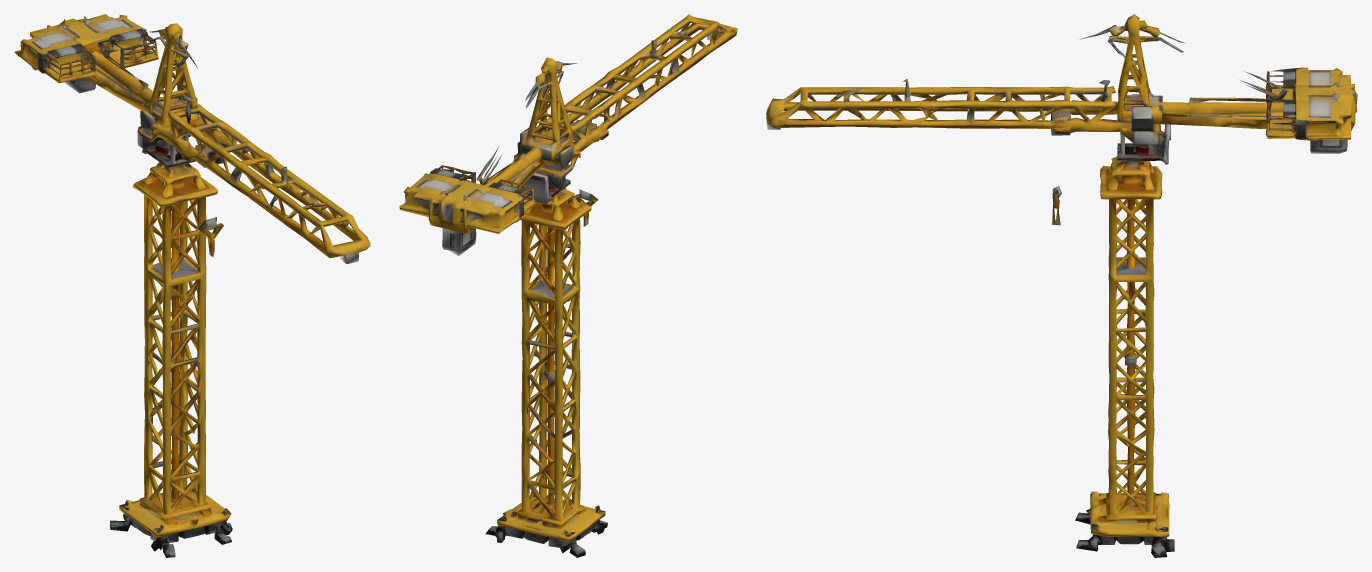
Rendered from crane.glb.
3 views of the same model, side by side, from view 1: azimuth 30°, elevation 25°; view 2: azimuth 150°, elevation 25°; view 3: azimuth 270°, elevation 25° (orthographic). The views are drawn at different scales.
Visible parts, largest first — view 1: crane-0; view 2: crane-0; view 3: crane-0.
Part boxes in pixels (bbox=[...]): crane-0: bbox=[14, 14, 370, 557]; crane-0: bbox=[399, 14, 737, 557]; crane-0: bbox=[766, 14, 1357, 557].
Bounding box in the file's own units: 0.2168 × 0.9713 × 1.
Materials: 1 (1 with a texture image).
